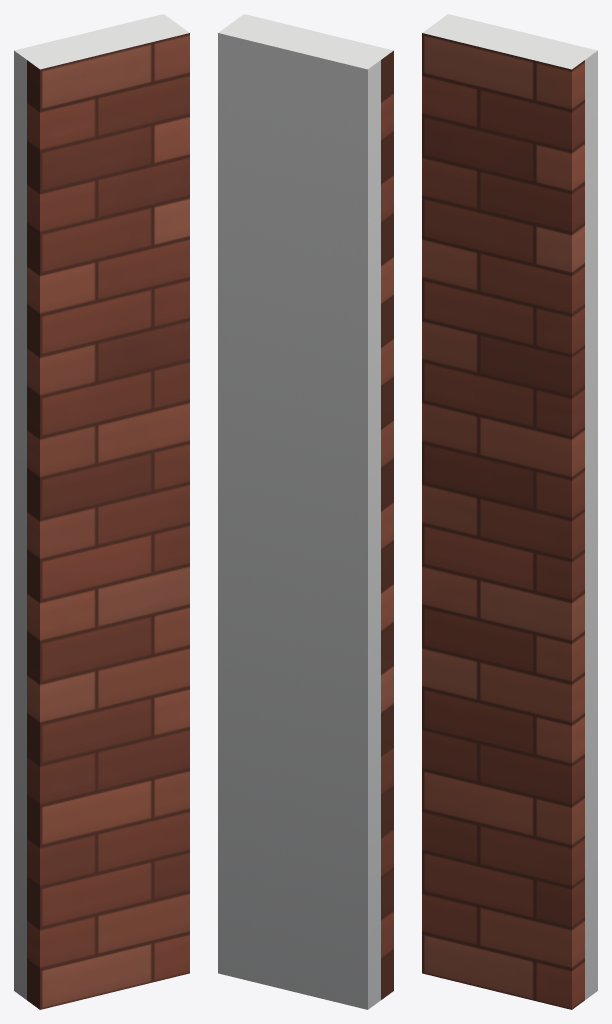
File: parede_0_5m.glb
The picture shows the model from 3 angles, left to right: view 1: azimuth 30°, elevation 25°; view 2: azimuth 150°, elevation 25°; view 3: azimuth 330°, elevation 25°; orthographic projection.
Visible parts, largest first — view 1: parede_0_5m; view 2: parede_0_5m; view 3: parede_0_5m.
Part boxes in pixels (x1,y1,x2,y2): parede_0_5m: [14, 14, 189, 1009]; parede_0_5m: [218, 14, 393, 1009]; parede_0_5m: [422, 14, 597, 1009].
Bounding box in the file's own units: 0.5 × 3 × 0.15.
Materials: 3 (2 with a texture image).
